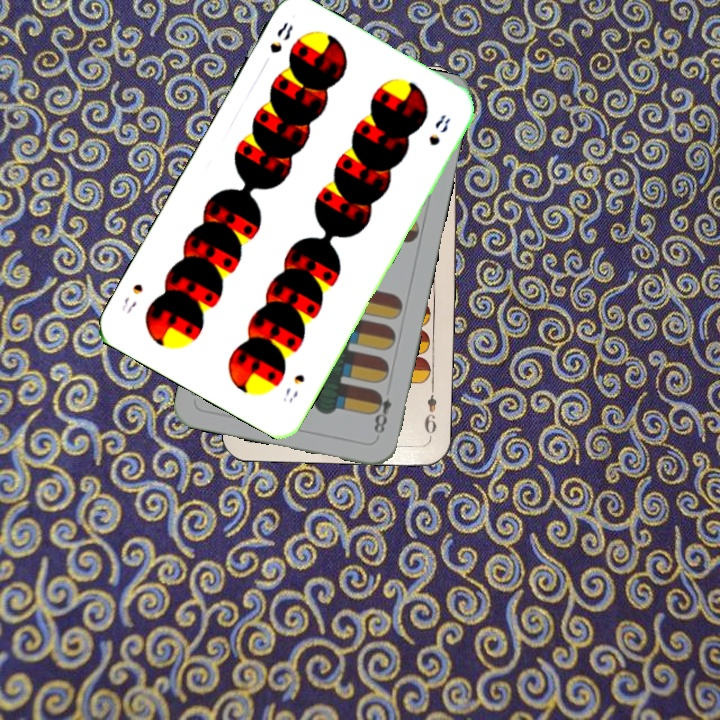E8: (368, 387, 395, 440)
E9: (420, 381, 440, 440)
S8: (265, 18, 296, 56), (278, 370, 307, 406)
